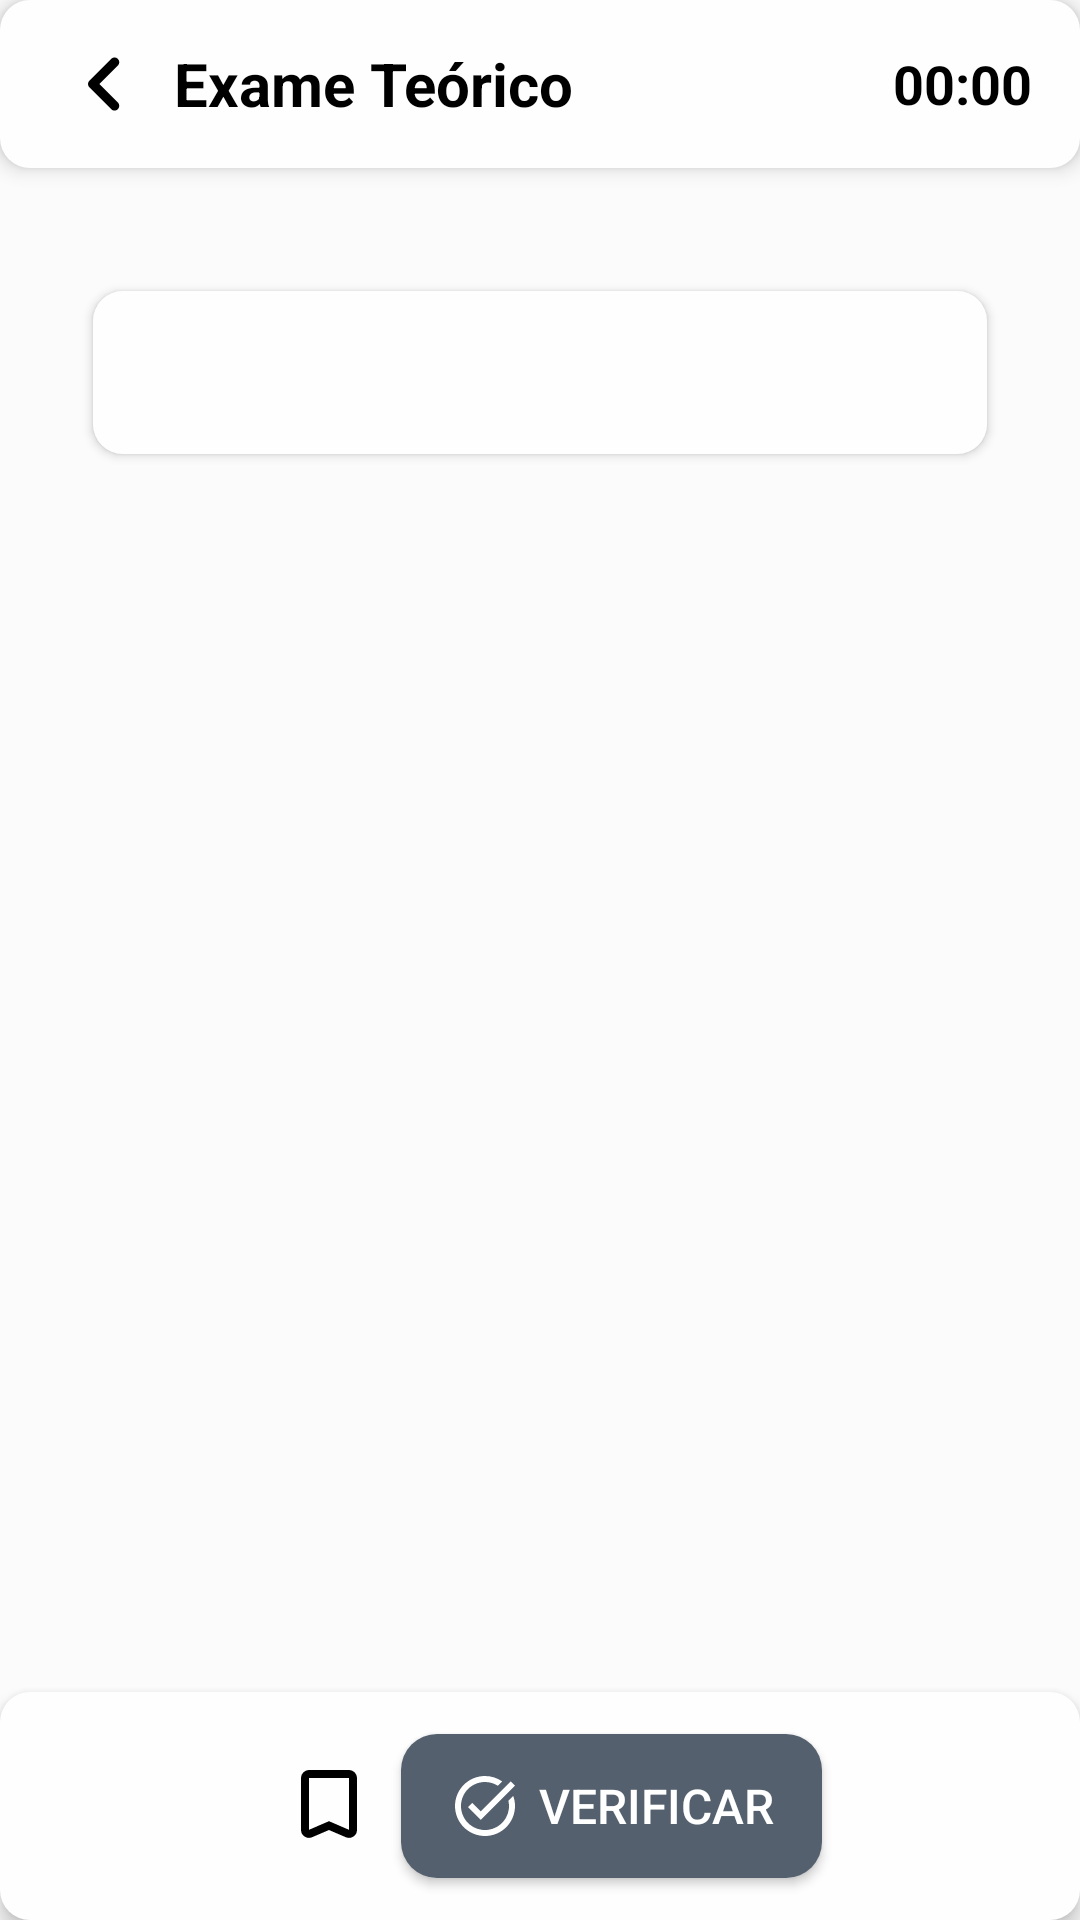

Icons on this 1080x1920 Android screen, each with the point to tap as (x=x, y=y):
left: (x=104, y=84)
Marcar: (x=329, y=1804)
